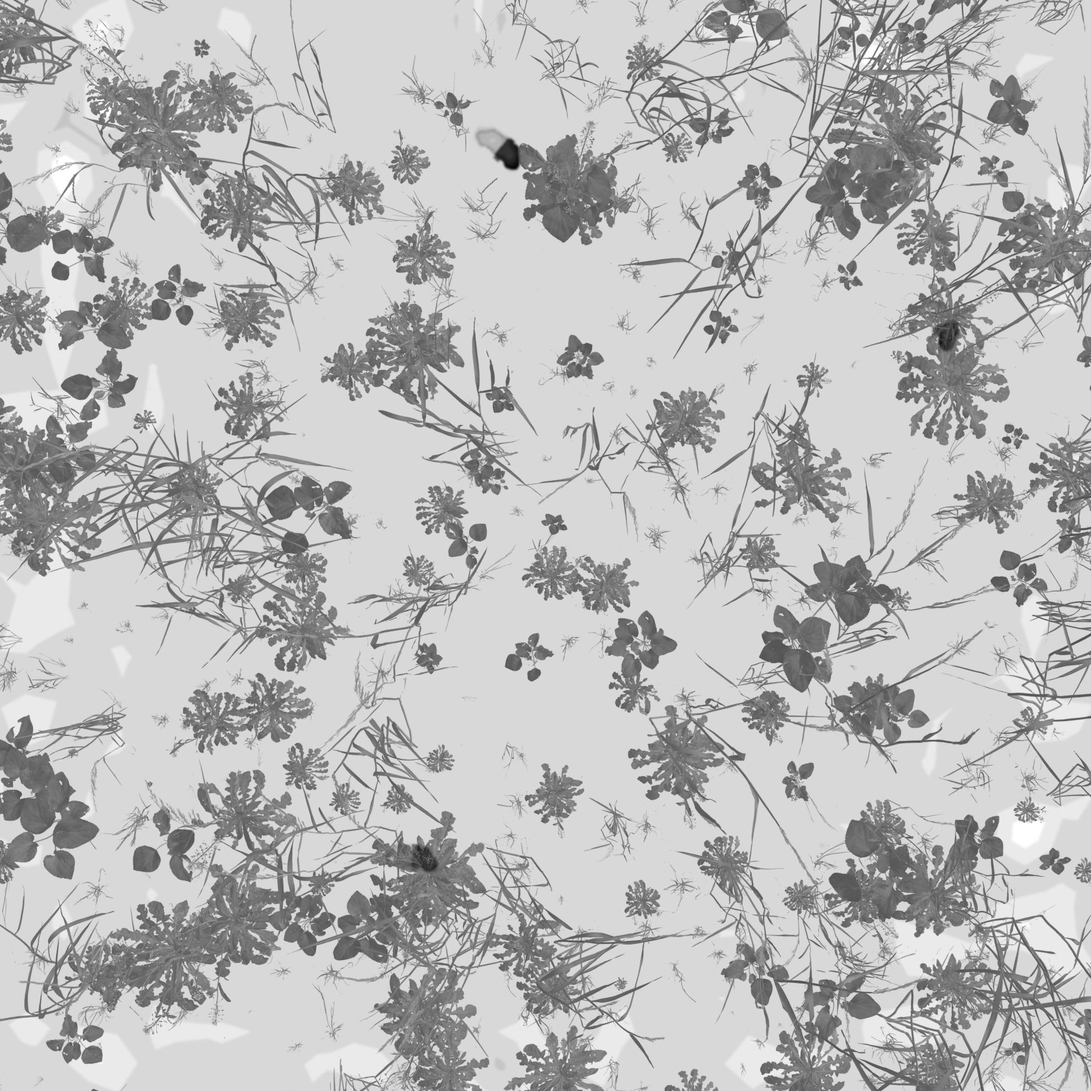landmine: (473, 124, 523, 173)
